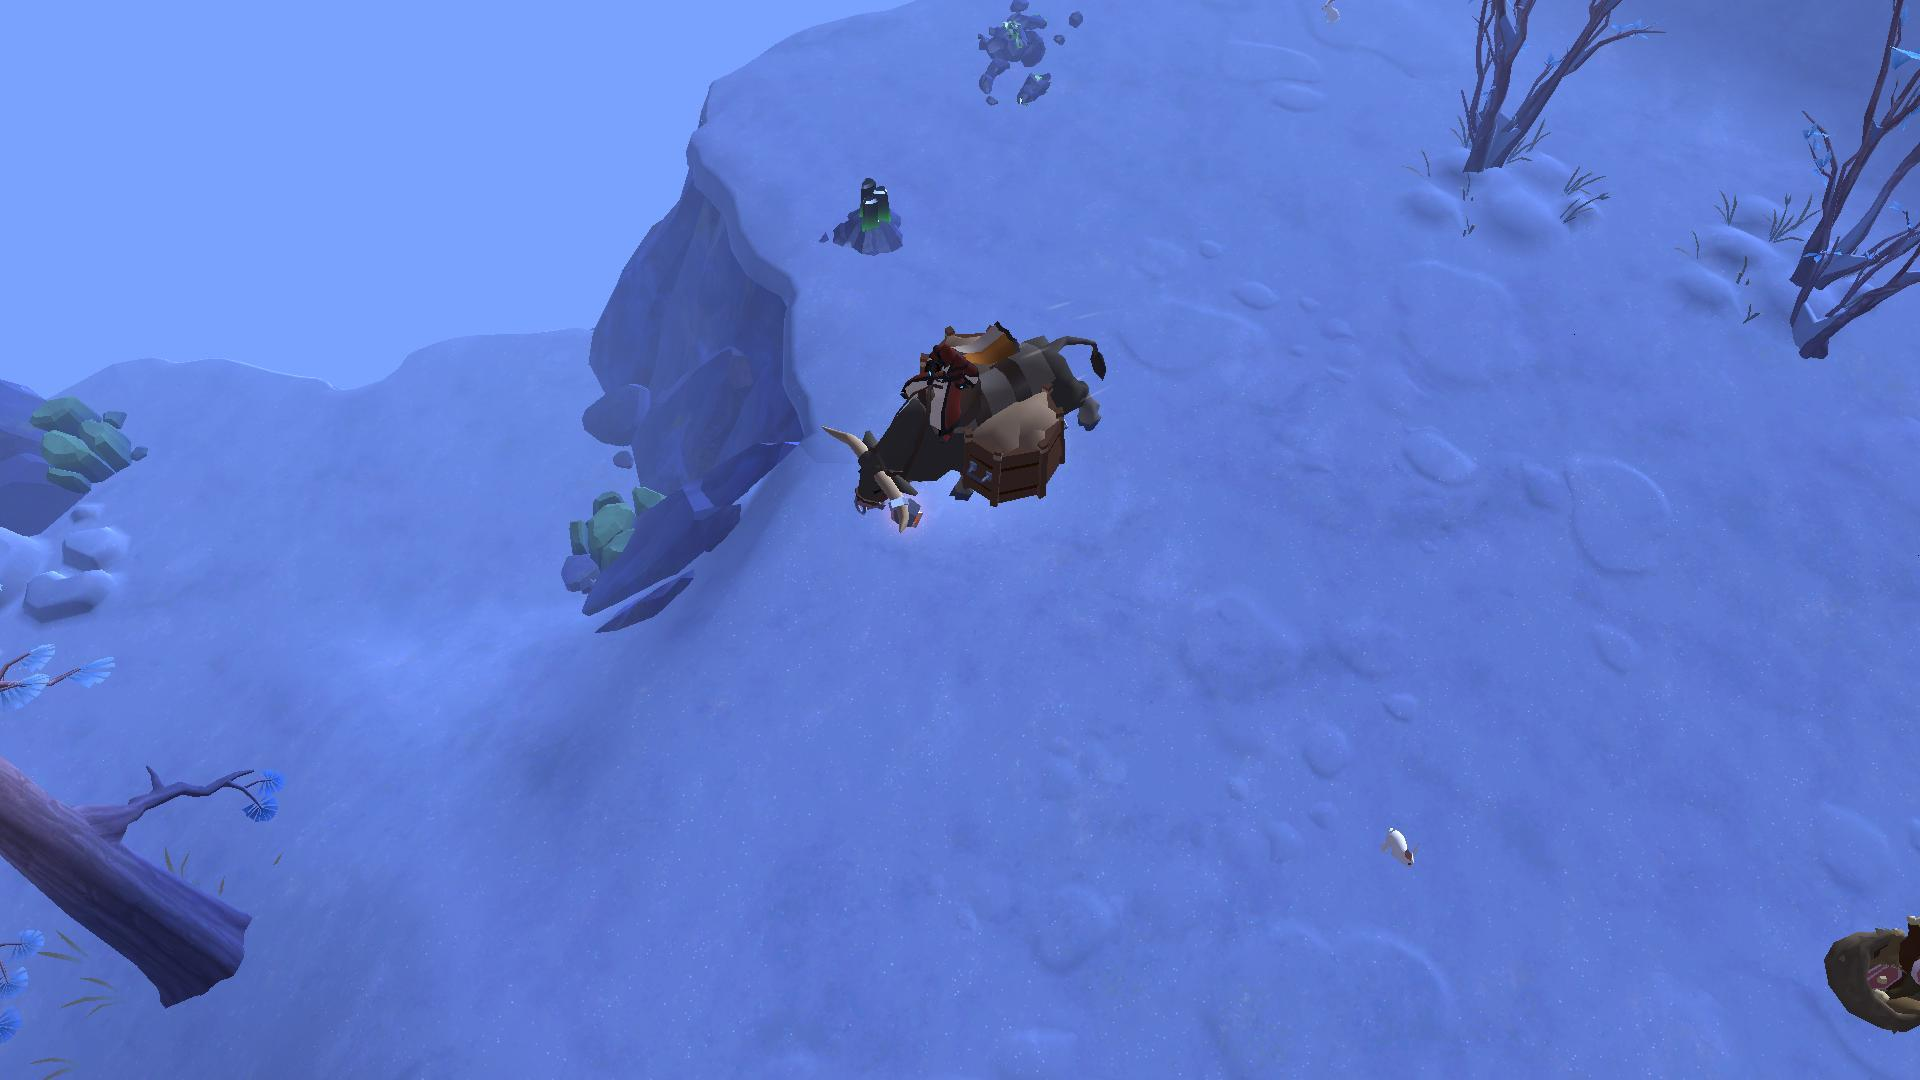ore_t3: (852, 167, 897, 235)
rock_t3: (37, 381, 145, 505), (554, 473, 680, 579)
